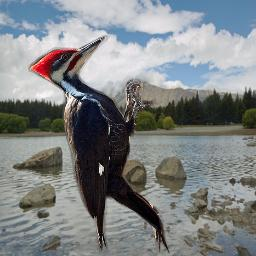Woodpecker: (28, 35, 170, 254)
